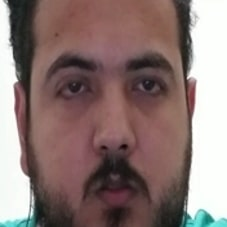drowsy: (42, 46, 181, 208)
